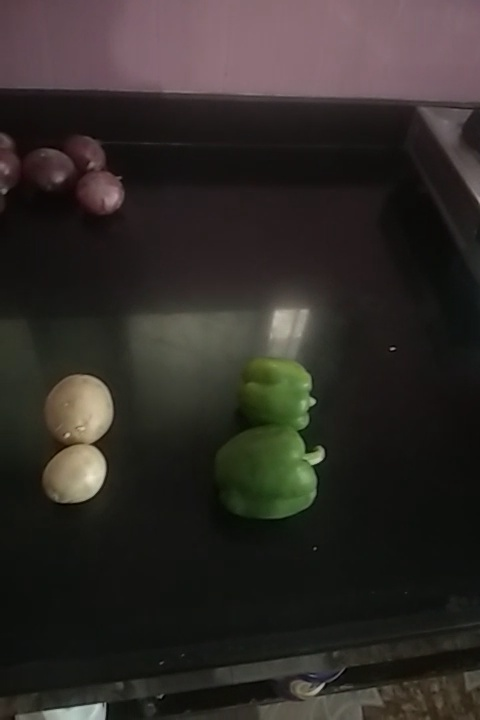capsicum: (211, 425, 326, 519), (236, 353, 323, 432)
onion: (24, 142, 75, 207), (68, 129, 116, 176), (81, 168, 126, 218)
potato: (44, 371, 120, 442), (43, 448, 105, 504)
